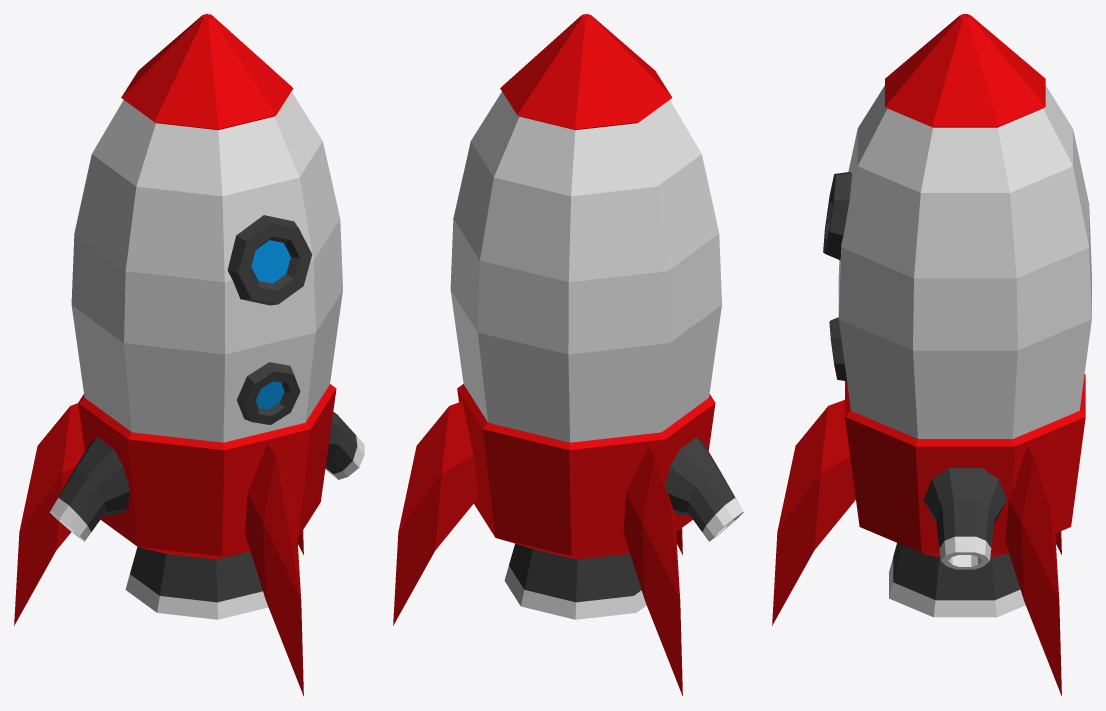
File: Rocket1.fbx
3 views of the same model, side by side, from view 1: azimuth 30°, elevation 25°; view 2: azimuth 150°, elevation 25°; view 3: azimuth 270°, elevation 25° (orthographic).
Parts seen in each view (by area): view 1: RocketShip; view 2: RocketShip; view 3: RocketShip.
Boxes of the visible parts, <box> form: RocketShip: <box>14,14,364,696</box>; RocketShip: <box>393,14,743,696</box>; RocketShip: <box>772,14,1091,696</box>.
Bounding box in the file's own units: 302 × 274 × 577.
